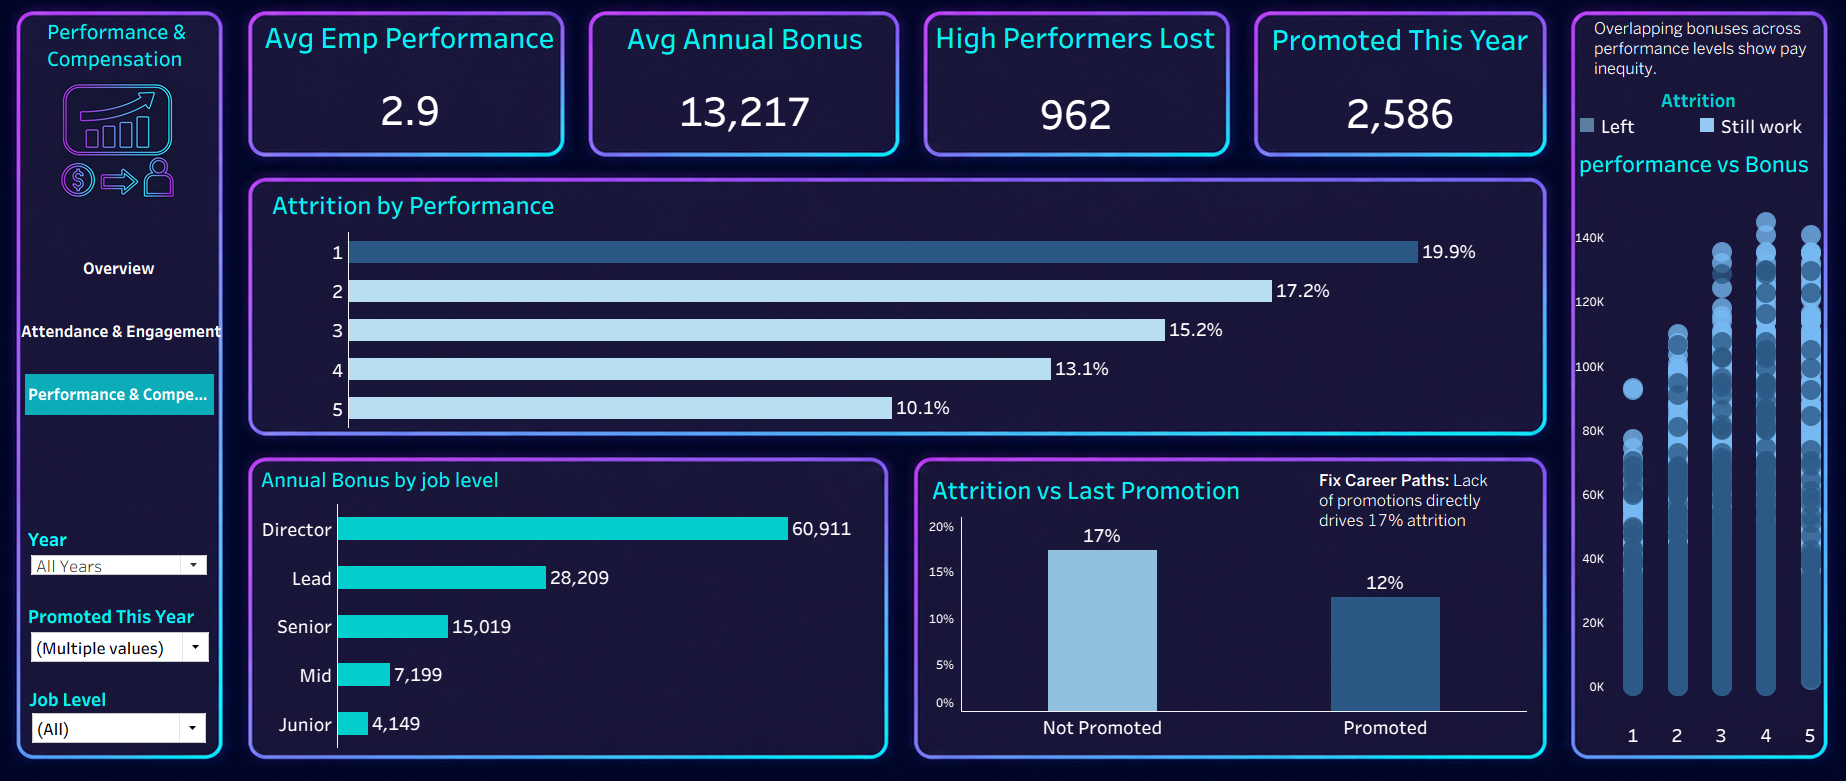

The dashboard page shown, as its layout file describes it:
{"tool":"tableau","page":{"name":"Performance & Compensation","canvas":[1000,1000],"units":"permille","ordinal":2},"visuals":[{"type":"text","box":[27.1,37.2,85.5,89.3]},{"type":"worksheet","title":"KPI - Avg Performance","mark":"Automatic","box":[136.6,42.2,170.6,171.2]},{"type":"worksheet","title":"KPI - High Performers Lost","mark":"Automatic","box":[478.8,42.2,193.9,181.1]},{"type":"text","box":[849.1,42.2,117.4,89.3]},{"type":"worksheet","title":"KPI - Avg Annual Bonus","mark":"Automatic","box":[319.9,43.4,160.5,170]},{"type":"worksheet","title":"KPI - Promoted This Year","mark":"Automatic","box":[667.9,44.7,160.5,172.5]},{"type":"image","param":"D:/Gemini_Generated_Image_ja2ygtja2ygtja2y_peeled.png","box":[32.4,125.3,68,148.9]},{"type":"legend","title":"Chart - Performance vs Bonus","param":"[federated.1fdm2i500g343d19hefhi18nhucf].[none:attrition_flag:ok]","box":[841.1,134,131.2,65.8]},{"type":"worksheet","title":"Chart - Performance vs Bonus","mark":"Circle","rows":["annual_bonus_egp"],"cols":["performance_score"],"box":[841.1,204.7,137.1,749.4]},{"type":"worksheet","title":"Chart - Attrition by Performance","mark":"Automatic","rows":["performance_score"],"cols":["attrition_flag"],"box":[146.7,254.3,672.2,302.7]},{"type":"dashboard-object","box":[14.3,326.3,106.8,64.5]},{"type":"dashboard-object","box":[9.6,408.2,118,58.3]},{"type":"dashboard-object","box":[17.5,490.1,100.4,50.9]},{"type":"worksheet","title":"Chart - Bonus by Level","mark":"Automatic","rows":["job_level"],"cols":["annual_bonus_egp"],"box":[140.8,598,330.5,356.1]},{"type":"text","box":[703,603,96.7,89.3]},{"type":"worksheet","title":"Chart - Attrition vs Last Promotion","mark":"Automatic","rows":["attrition_flag"],"cols":["promoted_this_year"],"box":[497.3,607.9,318.3,349.9]},{"type":"parameter","param":"[Parameters].[Parameter 1]","box":[19.1,678.7,96.7,64.5]},{"type":"filter","title":"Chart - Attrition vs Last Promotion","param":"[federated.1fdm2i500g343d19hefhi18nhucf].[none:promoted_this_year:ok]","box":[19.1,774.2,97.8,95.5]},{"type":"filter","title":"Chart - Bonus by Level","param":"[federated.1fdm2i500g343d19hefhi18nhucf].[none:job_level:nk]","box":[19.7,877.2,95.6,73.2]}]}

Visuals, with their boxes on the dashboard's canvas, which has no fixed pixel size, in thousandths of its width and height (x1, y1, x2, y2). These are canvas units, not pixel positions in the 1846x781 screenshot, which may show the page scaled, cropped or inside an application window:
text: left=27, top=37, right=113, bottom=126
"KPI - Avg Performance" worksheet: left=137, top=42, right=307, bottom=213
"KPI - High Performers Lost" worksheet: left=479, top=42, right=673, bottom=223
text: left=849, top=42, right=966, bottom=132
"KPI - Avg Annual Bonus" worksheet: left=320, top=43, right=480, bottom=213
"KPI - Promoted This Year" worksheet: left=668, top=45, right=828, bottom=217
image: left=32, top=125, right=100, bottom=274
"Chart - Performance vs Bonus" legend: left=841, top=134, right=972, bottom=200
"Chart - Performance vs Bonus" worksheet (Circle marks): left=841, top=205, right=978, bottom=954
"Chart - Attrition by Performance" worksheet: left=147, top=254, right=819, bottom=557
dashboard-object: left=14, top=326, right=121, bottom=391
dashboard-object: left=10, top=408, right=128, bottom=466
dashboard-object: left=18, top=490, right=118, bottom=541
"Chart - Bonus by Level" worksheet: left=141, top=598, right=471, bottom=954
text: left=703, top=603, right=800, bottom=692
"Chart - Attrition vs Last Promotion" worksheet: left=497, top=608, right=816, bottom=958
parameter: left=19, top=679, right=116, bottom=743
"Chart - Attrition vs Last Promotion" filter: left=19, top=774, right=117, bottom=870
"Chart - Bonus by Level" filter: left=20, top=877, right=115, bottom=950
